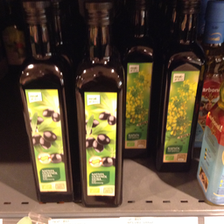oil: (16, 2, 77, 204), (74, 2, 125, 207), (155, 4, 203, 171)
